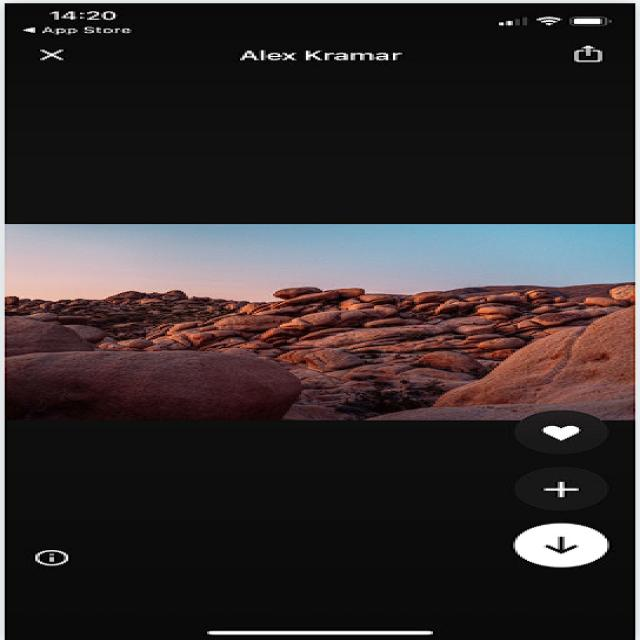icon button: (509, 516, 640, 576), (509, 407, 621, 457), (512, 463, 618, 510), (550, 33, 620, 70), (15, 36, 87, 68)
image: (0, 217, 640, 423)
text: (212, 40, 424, 72)
